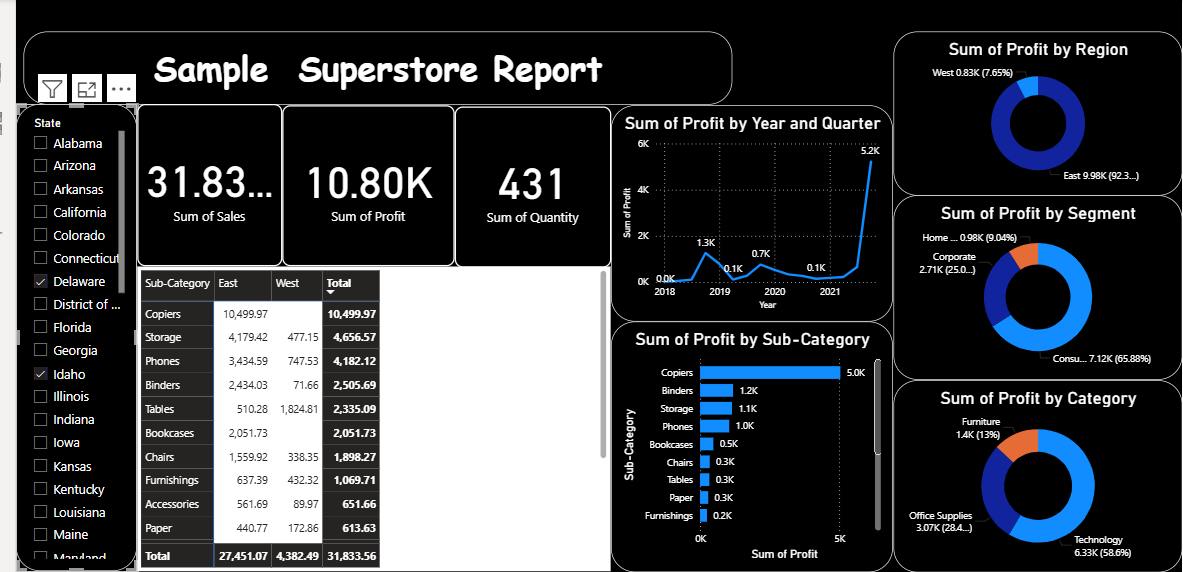

What the dashboard file says about the page in this screenshot:
{"tool":"powerbi","page":{"name":"Page 1","canvas":[1466,720],"ordinal":0},"visuals":[{"type":"textbox","box":[9.7,41,891.6,91.7],"z":0},{"type":"donutChart","fields":{"Category":["Orders.Category"],"Y":["Sum(Orders.Profit)"]},"box":[1102.7,479,363.1,241.3],"z":1000},{"type":"donutChart","fields":{"Category":["Orders.Segment"],"Y":["Sum(Orders.Profit)"]},"box":[1102.7,247.3,363.1,231.6],"z":2000},{"type":"donutChart","fields":{"Category":["Orders.Region"],"Y":["Sum(Orders.Profit)"]},"box":[1102.7,41,363.1,206.3],"z":3000},{"type":"barChart","fields":{"Y":["Sum(Orders.Profit)"],"Category":["Orders.Sub-Category"]},"box":[747.4,405,354.7,315.3],"z":4000},{"type":"lineChart","fields":{"Category":["Orders.Order Date.Variation.Date Hierarchy.Year","Orders.Order Date.Variation.Date Hierarchy.Quarter","Orders.Order Date.Variation.Date Hierarchy.Month","Orders.Order Date.Variation.Date Hierarchy.Day"],"Y":["Sum(Orders.Profit)"]},"box":[747.4,133.2,354.7,271.8],"z":5000},{"type":"slicer","fields":{"Values":["Orders.State"]},"box":[0,131.8,151.8,587.3],"z":6000},{"type":"pivotTable","fields":{"Rows":["Orders.Sub-Category"],"Columns":["Orders.Region"],"Values":["Sum(Orders.Sales)"]},"box":[152.2,337,595.2,383.2],"z":7000},{"type":"card","fields":{"Values":["Sum(Orders.Sales)"]},"box":[152.4,132,182.3,204.3],"z":8000},{"type":"card","fields":{"Values":["Sum(Orders.Profit)"]},"box":[334.8,133.6,216.9,202.7],"z":9000},{"type":"card","fields":{"Values":["Sum(Orders.Quantity)"]},"box":[551.6,135.2,196.5,202.7],"z":10000}]}

Visuals, with their boxes in screenshot pixels (x1, y1, x2, y2):
textbox: 23 32 723 104
donutChart - Orders.Category x Sum(Orders.Profit): 881 376 1166 565
donutChart - Orders.Segment x Sum(Orders.Profit): 881 194 1166 376
donutChart - Orders.Region x Sum(Orders.Profit): 881 32 1166 194
barChart - Sum(Orders.Profit) x Orders.Sub-Category: 602 318 880 565
lineChart - Orders.Order Date.Variation.Date Hierarchy.Year x Orders.Order Date.Variation.Date Hierarchy.Quarter: 602 105 880 318
slicer - Orders.State: 15 103 135 564
pivotTable - Orders.Sub-Category x Orders.Region: 135 264 602 565
card - Sum(Orders.Sales): 135 104 278 264
card - Sum(Orders.Profit): 278 105 448 264
card - Sum(Orders.Quantity): 448 106 603 265
